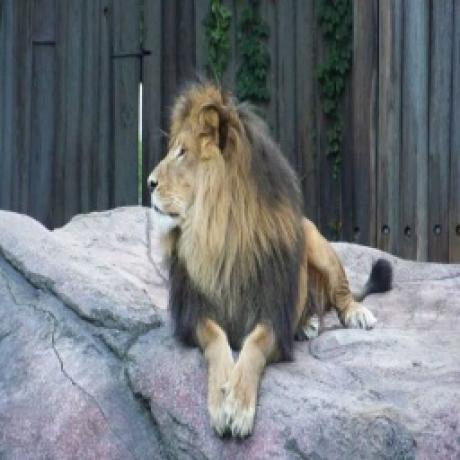Lion: (144, 79, 397, 441)
